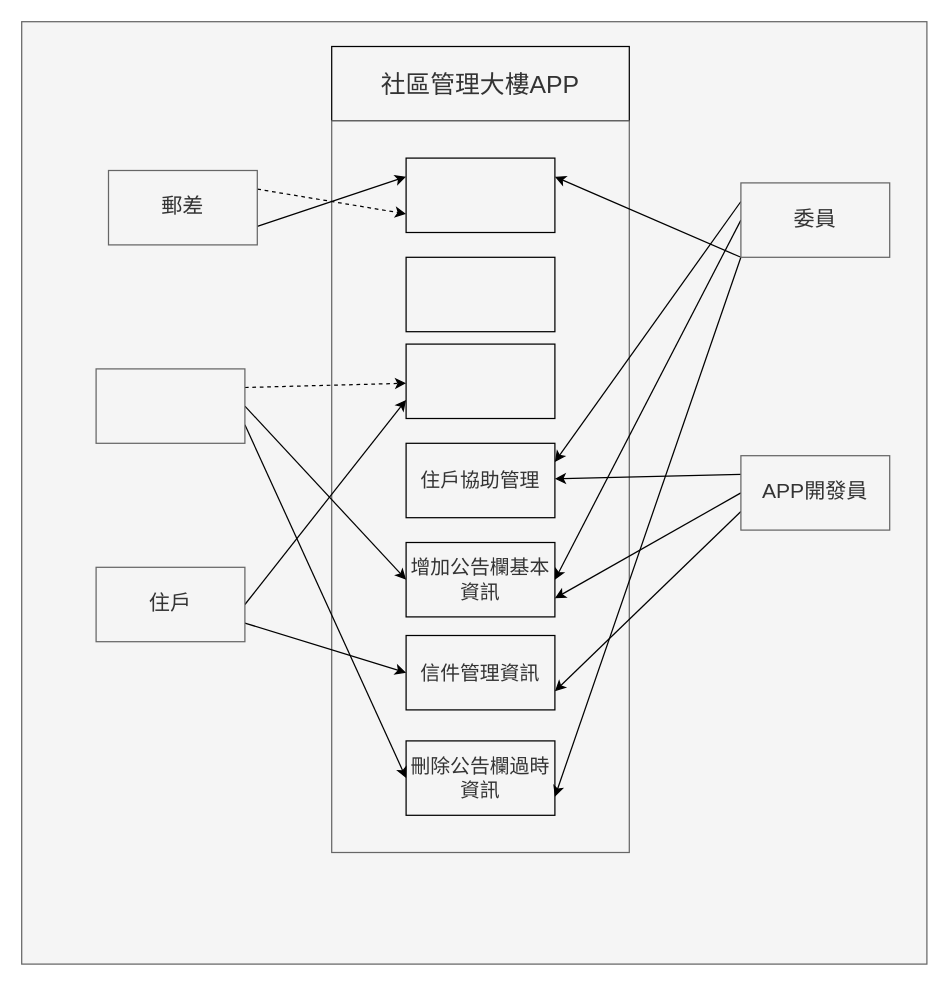
Image size: 949x986. Some labels were removed from this diagram. Here are the shapes that lost their labels. From the top down, the centre of each, then its label:
the point at 480,194: 住戶基本資料
the point at 480,294: 簽收信件作業
the point at 480,380: 住戶認領信件
the point at 170,405: 警衛
